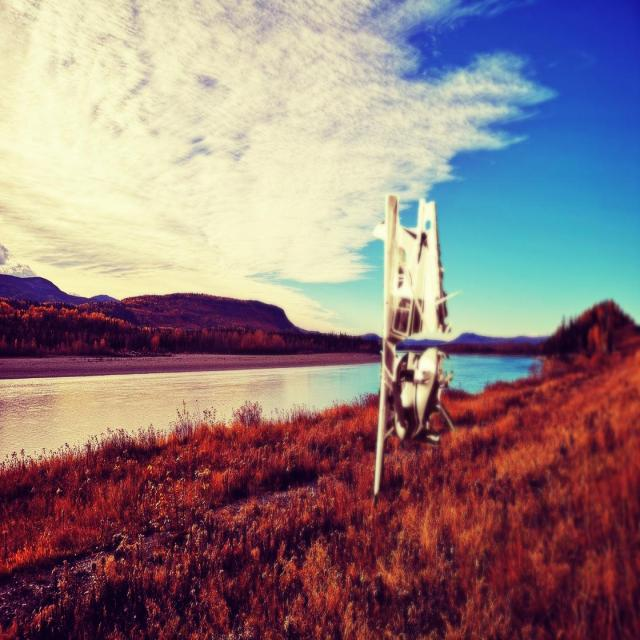airplane: (371, 193, 460, 502)
